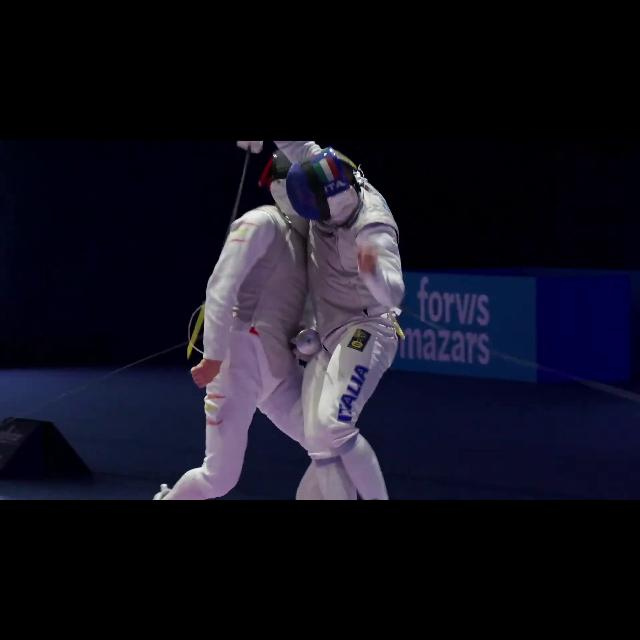blade: (222, 144, 268, 246)
